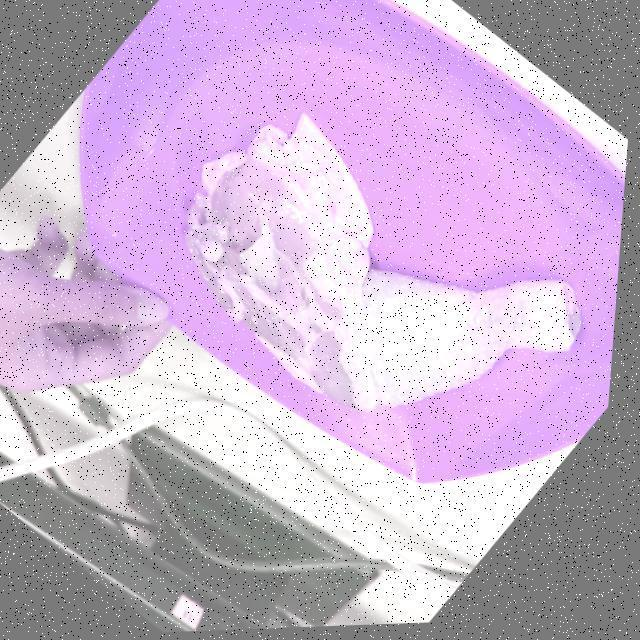quater: (200, 114, 587, 390)
